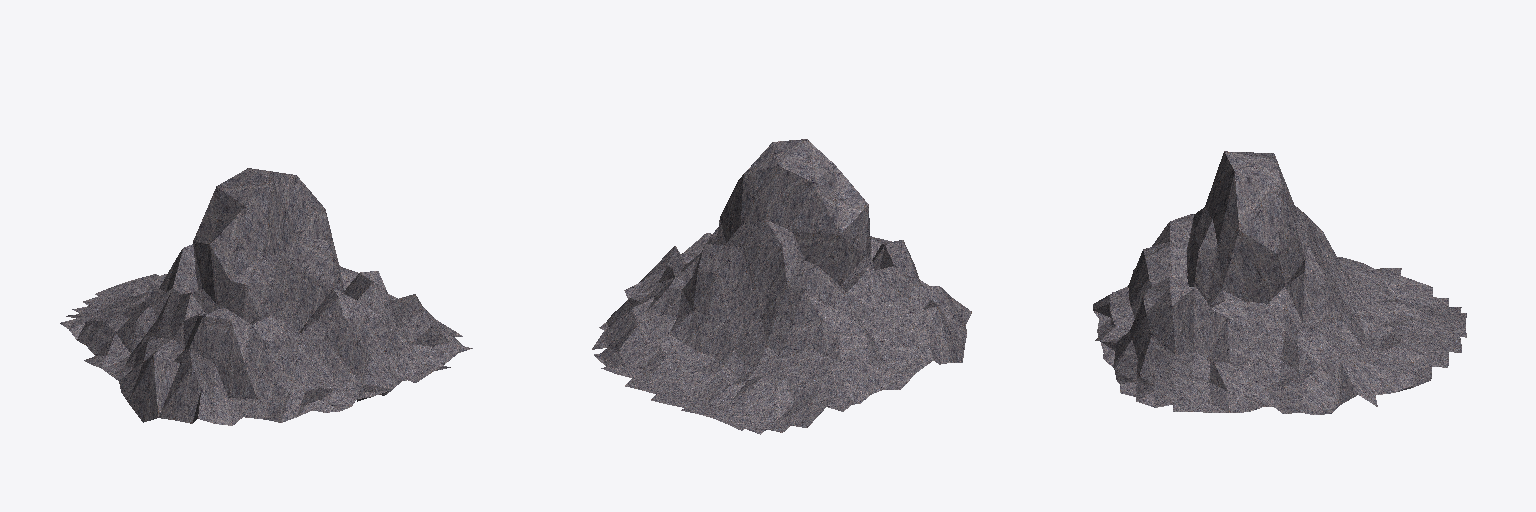
3 renders of one model, left to right at view 1: azimuth 30°, elevation 25°; view 2: azimuth 150°, elevation 25°; view 3: azimuth 270°, elevation 25°, orthographic.
Size of the model in its own units: 14.16 by 8.65 by 14.81.
1 materials, 1 textured.